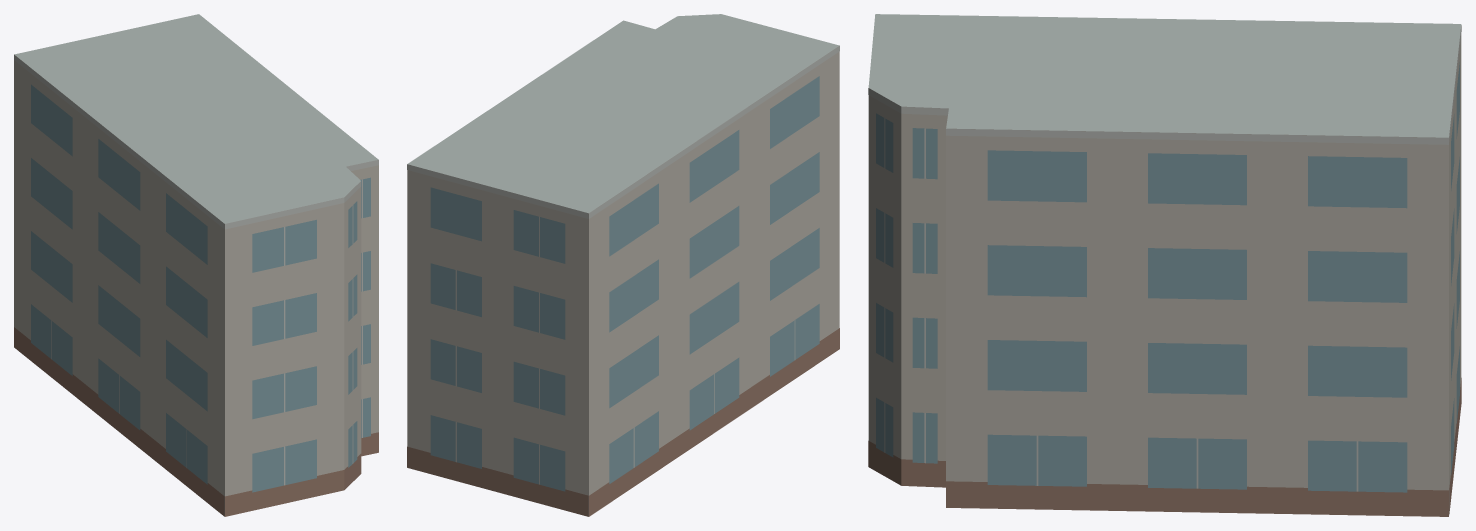
Rendered from survey-upis-32659750.glb.
3 views of the same model, side by side, from view 1: azimuth 30°, elevation 25°; view 2: azimuth 150°, elevation 25°; view 3: azimuth 270°, elevation 25° (orthographic). The views are drawn at different scales.
Parts seen in each view (by area): view 1: survey-upis-32659750.tmp; view 2: survey-upis-32659750.tmp; view 3: survey-upis-32659750.tmp.
Boxes of the visible parts, x1=… form: survey-upis-32659750.tmp: x1=14, y1=14, x2=378, y2=516; survey-upis-32659750.tmp: x1=407, y1=14, x2=839, y2=516; survey-upis-32659750.tmp: x1=868, y1=14, x2=1461, y2=516.
Size of the model in its own units: 9.03 by 12.9 by 18.29.
